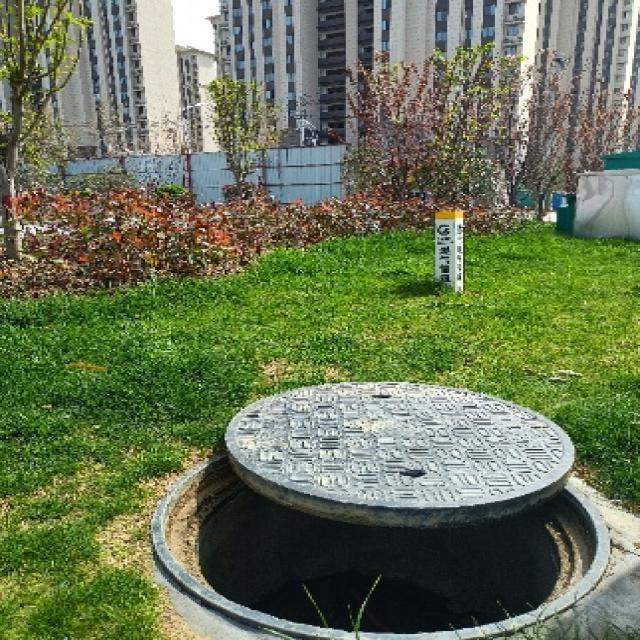Faulty: (126, 378, 634, 638)
